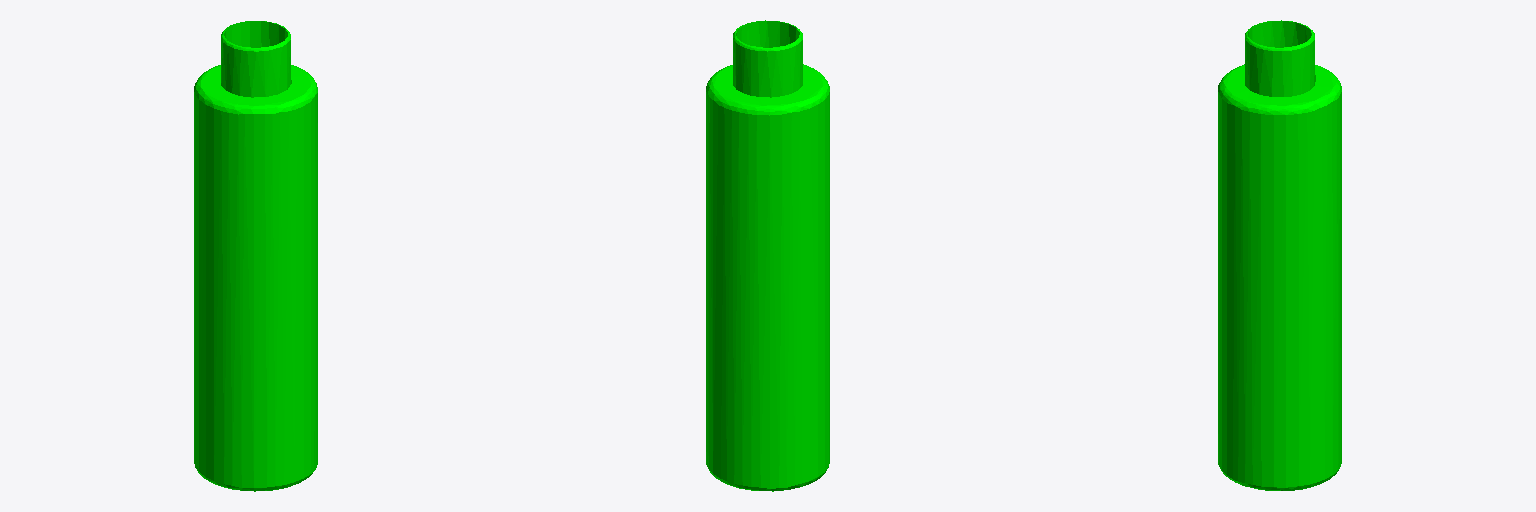
The robot description file, URDF, robot "bottle":
<?xml version="1.0"?>
<robot name="bottle">
    <link name="bottle_link">
        <contact>
            <friction_anchor/>
            <!-- <stiffness value="30000.0"/>
            <damping value="1000.0"/> -->
            <lateral_friction value="1.0"/>
            <rolling_friction value="0.0001"/>
            <inertia_scaling value="3.0"/>
        </contact>
        <inertial>
            <origin rpy="0 0 0" xyz="0 0.0 0"/>
            <mass value="0.1"/>
            <inertia ixx="0" ixy="0" ixz="0" iyy="0" iyz="0" izz="0"/>
        </inertial>
        <visual>
            <origin rpy="0 0 0" xyz="0 0 -0.067"/>
            <geometry>
                <mesh filename="madara_bottle_simplified.stl" scale="1 1 1"/> 
            </geometry>
            <material name="Green">
                <color rgba="0.0 1.0 0.0 1.0"/> 
            </material>
        </visual>
        <collision>
            <origin rpy="0 0 0" xyz="0 0 -0.067"/>
            <geometry>
                <mesh filename="madara_bottle_simplified.stl" scale="1.0 1.0 1.0"/>  
            </geometry>
        </collision>
   </link>
</robot>

--- What the picture shows (computed from the rendered views, not written in the file) ---
Views: 3 orthographic renders of the robot side by side, from view 1: azimuth 30°, elevation 25°; view 2: azimuth 150°, elevation 25°; view 3: azimuth 270°, elevation 25°.
Robot: bottle — 1 links, 0 joints (none); root link bottle_link; default pose: all joints at 0.
Links seen in each view (by area): view 1: bottle_link; view 2: bottle_link; view 3: bottle_link.
Link boxes in pixels (left/top/right/bottom): bottle_link: left=194, top=21, right=317, bottom=491; bottle_link: left=706, top=20, right=829, bottom=491; bottle_link: left=1218, top=20, right=1341, bottom=490.
Size in the robot's own frame: 0.0348 by 0.035 by 0.135 metres.
1 mesh visuals loaded from 1 distinct referenced files (1 binary STL).